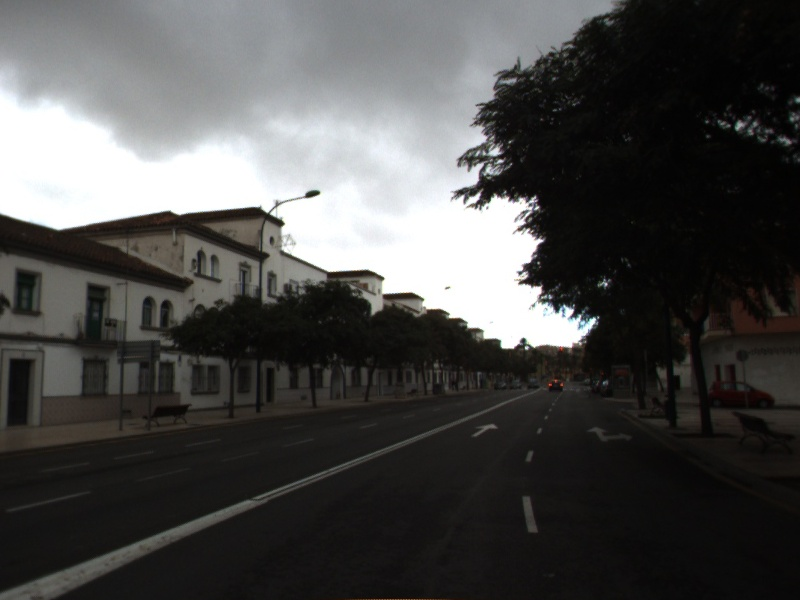STRAIGHT: (469, 421, 500, 439)
STRAIGHT_RIGHT: (585, 425, 634, 444)
